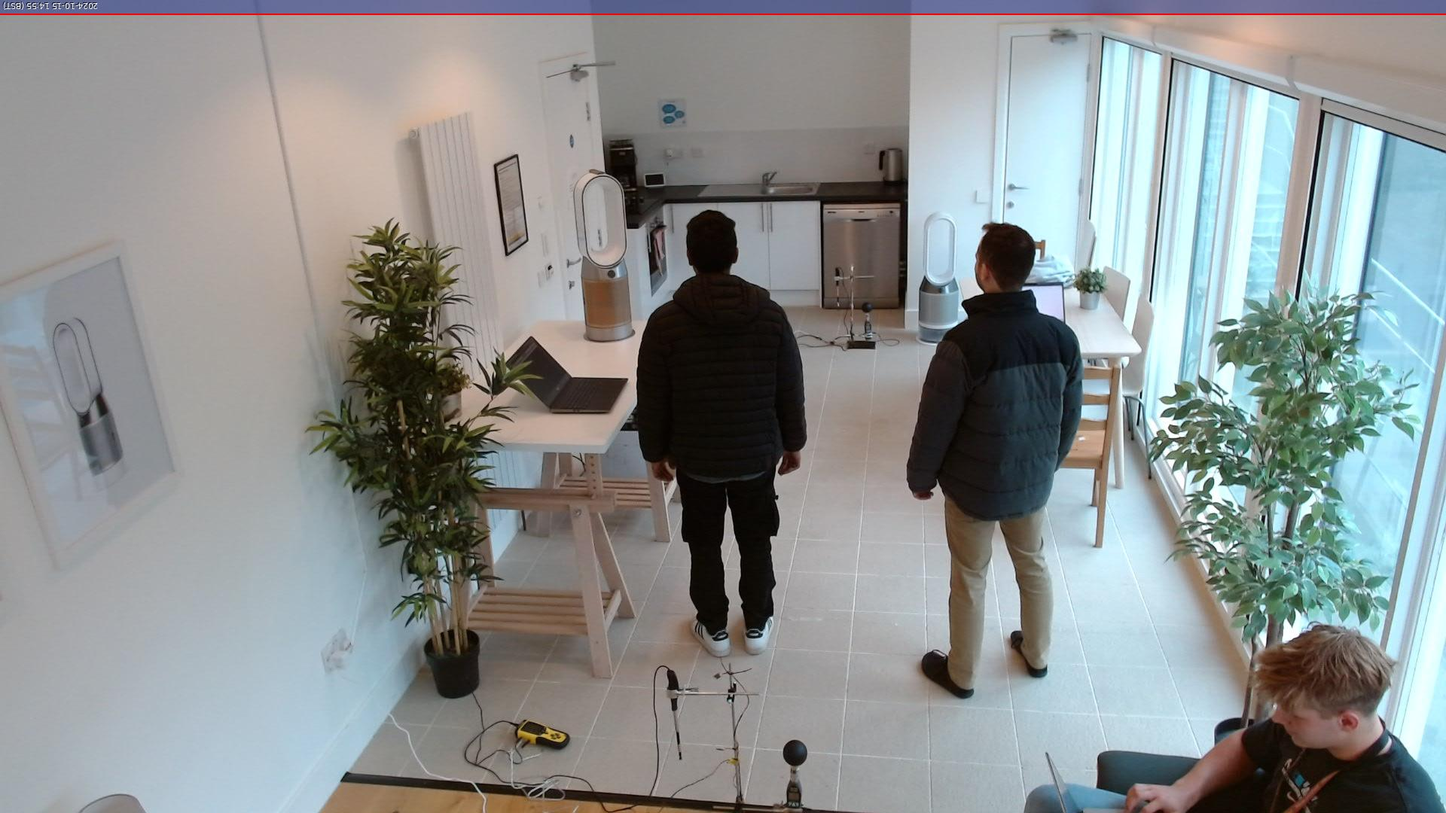coat: (903, 288, 1082, 526), (631, 271, 810, 480)
short sleeve shirt: (1240, 708, 1445, 813)
trousers: (944, 492, 1054, 694), (677, 466, 781, 632), (1022, 780, 1161, 813)
